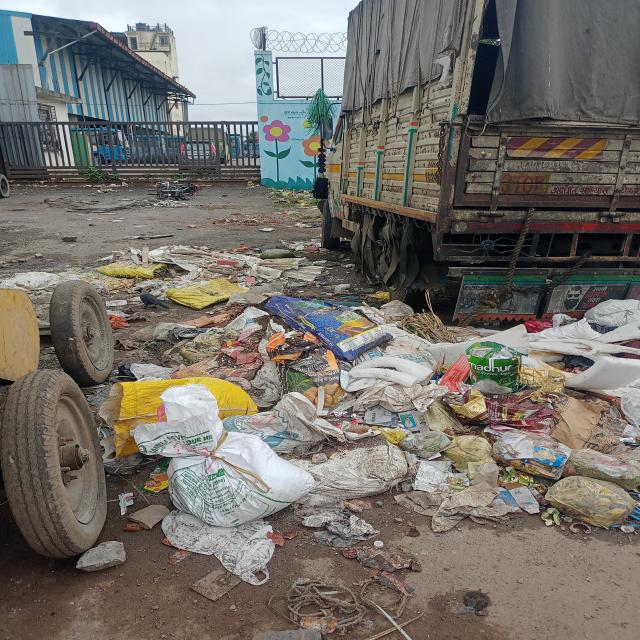garbage: (109, 240, 364, 545), (372, 302, 640, 543)
